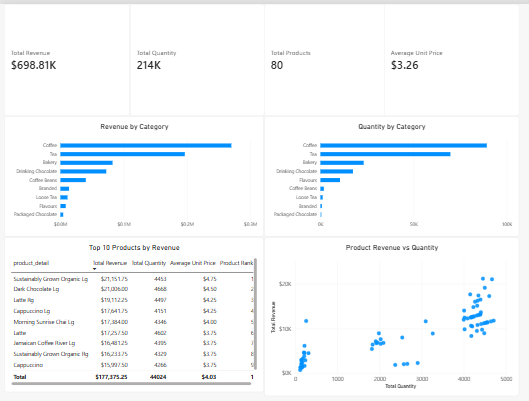

Layout of this report page (visuals, bound fields, positions):
{"tool":"powerbi","page":{"name":"Product Analysis","canvas":[1920,1080],"ordinal":2},"visuals":[{"type":"cardVisual","fields":{"Data":["_Measures.Total Revenue"]},"box":[10,0,314,280],"z":0},{"type":"cardVisual","fields":{"Data":["_Measures.Total Quantity"]},"box":[324,0,336,280],"z":1000},{"type":"cardVisual","fields":{"Data":["_Measures.Total Products"]},"box":[660,0,320,280],"z":2000},{"type":"cardVisual","fields":{"Data":["_Measures.Average Unit Price"]},"box":[960,0,338,280],"z":3000},{"type":"barChart","title":"Revenue by Category","fields":{"Category":["DimProduct.product_category"],"Y":["_Measures.Total Revenue"]},"box":[10,280,650,302],"z":4000},{"type":"barChart","title":"Quantity by Category","fields":{"Category":["DimProduct.product_category"],"Y":["_Measures.Total Quantity"]},"box":[660,280,638,302],"z":5000},{"type":"tableEx","title":"Top 10 Products by Revenue","fields":{"Values":["DimProduct.product_detail","_Measures.Total Revenue","_Measures.Total Quantity","_Measures.Average Unit Price","_Measures.Product Rank"]},"box":[10,582.2,650,388],"z":6000},{"type":"scatterChart","title":"Product Revenue vs Quantity","fields":{"Category":["DimProduct.product_detail"],"X":["_Measures.Total Quantity"],"Y":["_Measures.Total Revenue"]},"box":[660,582,638,398],"z":7000}]}

Visuals, with their boxes on the page's 1920x1080 design canvas (x1, y1, x2, y2). These are canvas units, not pixel positions in the 529x401 screenshot, which may show the page scaled, cropped or inside an application window:
cardVisual - _Measures.Total Revenue: left=10, top=0, right=324, bottom=280
cardVisual - _Measures.Total Quantity: left=324, top=0, right=660, bottom=280
cardVisual - _Measures.Total Products: left=660, top=0, right=980, bottom=280
cardVisual - _Measures.Average Unit Price: left=960, top=0, right=1298, bottom=280
"Revenue by Category" barChart: left=10, top=280, right=660, bottom=582
"Quantity by Category" barChart: left=660, top=280, right=1298, bottom=582
"Top 10 Products by Revenue" tableEx: left=10, top=582, right=660, bottom=970
"Product Revenue vs Quantity" scatterChart: left=660, top=582, right=1298, bottom=980
